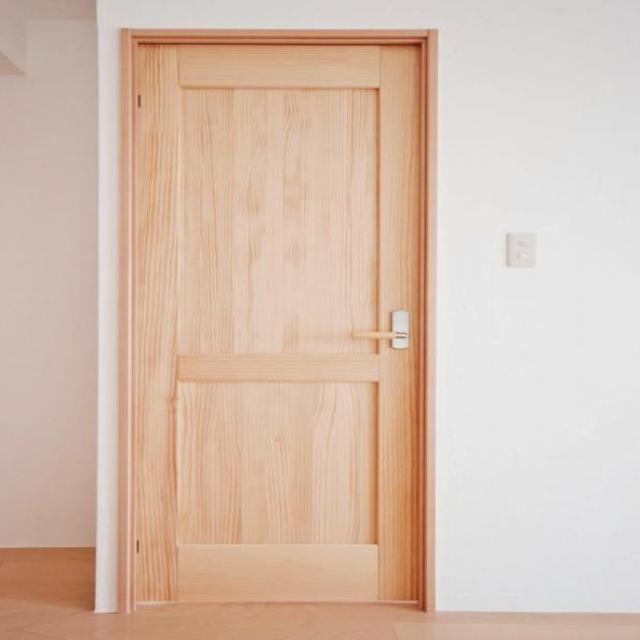door: (120, 29, 428, 611)
